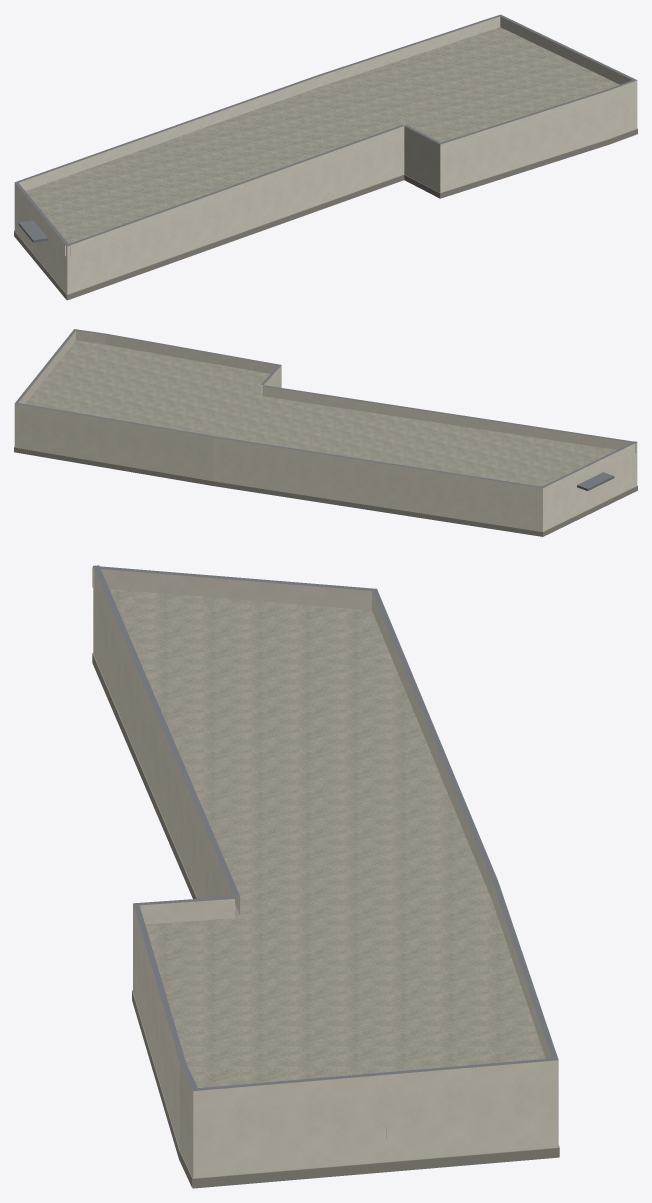
3 views of the same model, one above another, from view 1: azimuth 30°, elevation 25°; view 2: azimuth 150°, elevation 25°; view 3: azimuth 270°, elevation 25° (orthographic). The views are drawn at different scales.
Visible parts, largest first — view 1: B-w1296318896_cubierta, B-w1296318896_muros, B-w1296318896_lejos, B-w1296318896_molduras; view 2: B-w1296318896_cubierta, B-w1296318896_muros, B-w1296318896_lejos, B-w1296318896_molduras, B-w1296318896_remates; view 3: B-w1296318896_cubierta, B-w1296318896_muros, B-w1296318896_lejos, B-w1296318896_molduras.
Part boxes in pixels (box(x1,y1,x2,y2)): B-w1296318896_cubierta: box(15, 14, 636, 256); B-w1296318896_muros: box(14, 80, 637, 299); B-w1296318896_lejos: box(20, 97, 627, 299); B-w1296318896_molduras: box(14, 128, 637, 300); B-w1296318896_cubierta: box(15, 329, 636, 488); B-w1296318896_muros: box(14, 365, 637, 531); B-w1296318896_lejos: box(14, 375, 627, 531); B-w1296318896_molduras: box(14, 447, 637, 536); B-w1296318896_remates: box(577, 472, 614, 490); B-w1296318896_cubierta: box(92, 565, 558, 1091); B-w1296318896_muros: box(93, 569, 558, 1186); B-w1296318896_lejos: box(94, 588, 508, 1173); B-w1296318896_molduras: box(92, 653, 559, 1188).
Size of the model in its own units: 52.66 by 4.5 by 19.66.
Materials: 5 (2 with a texture image).
